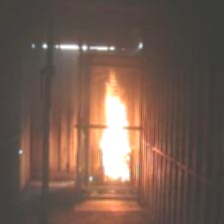fire: (97, 70, 141, 180)
